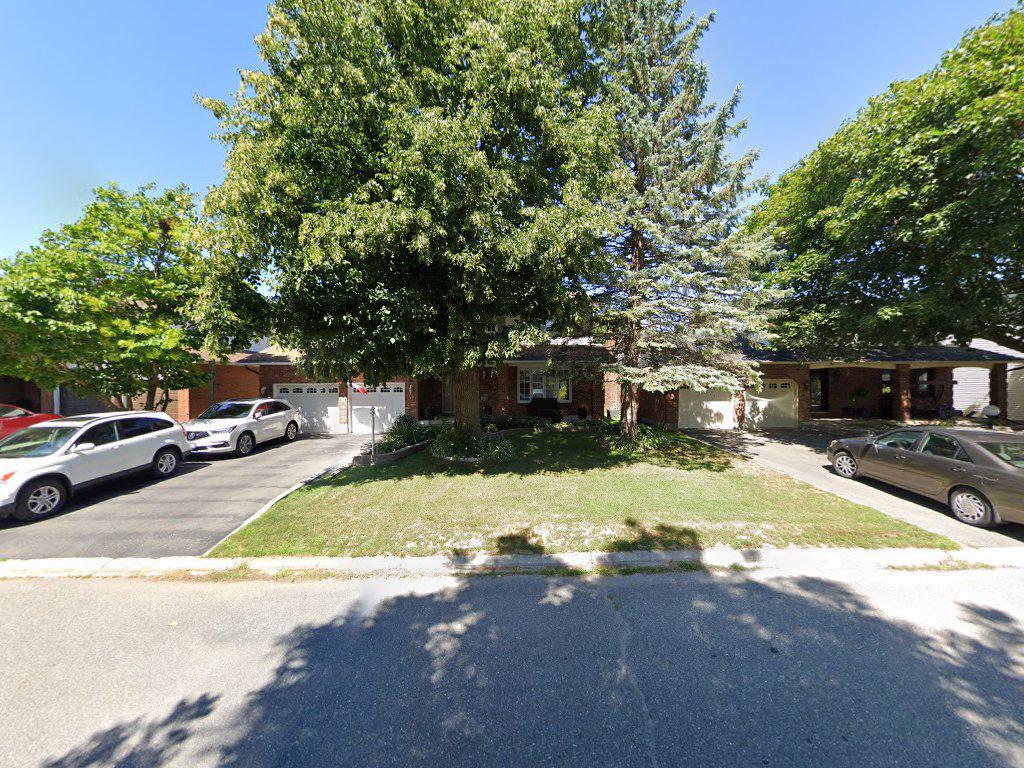trunk: (445, 337, 498, 454)
